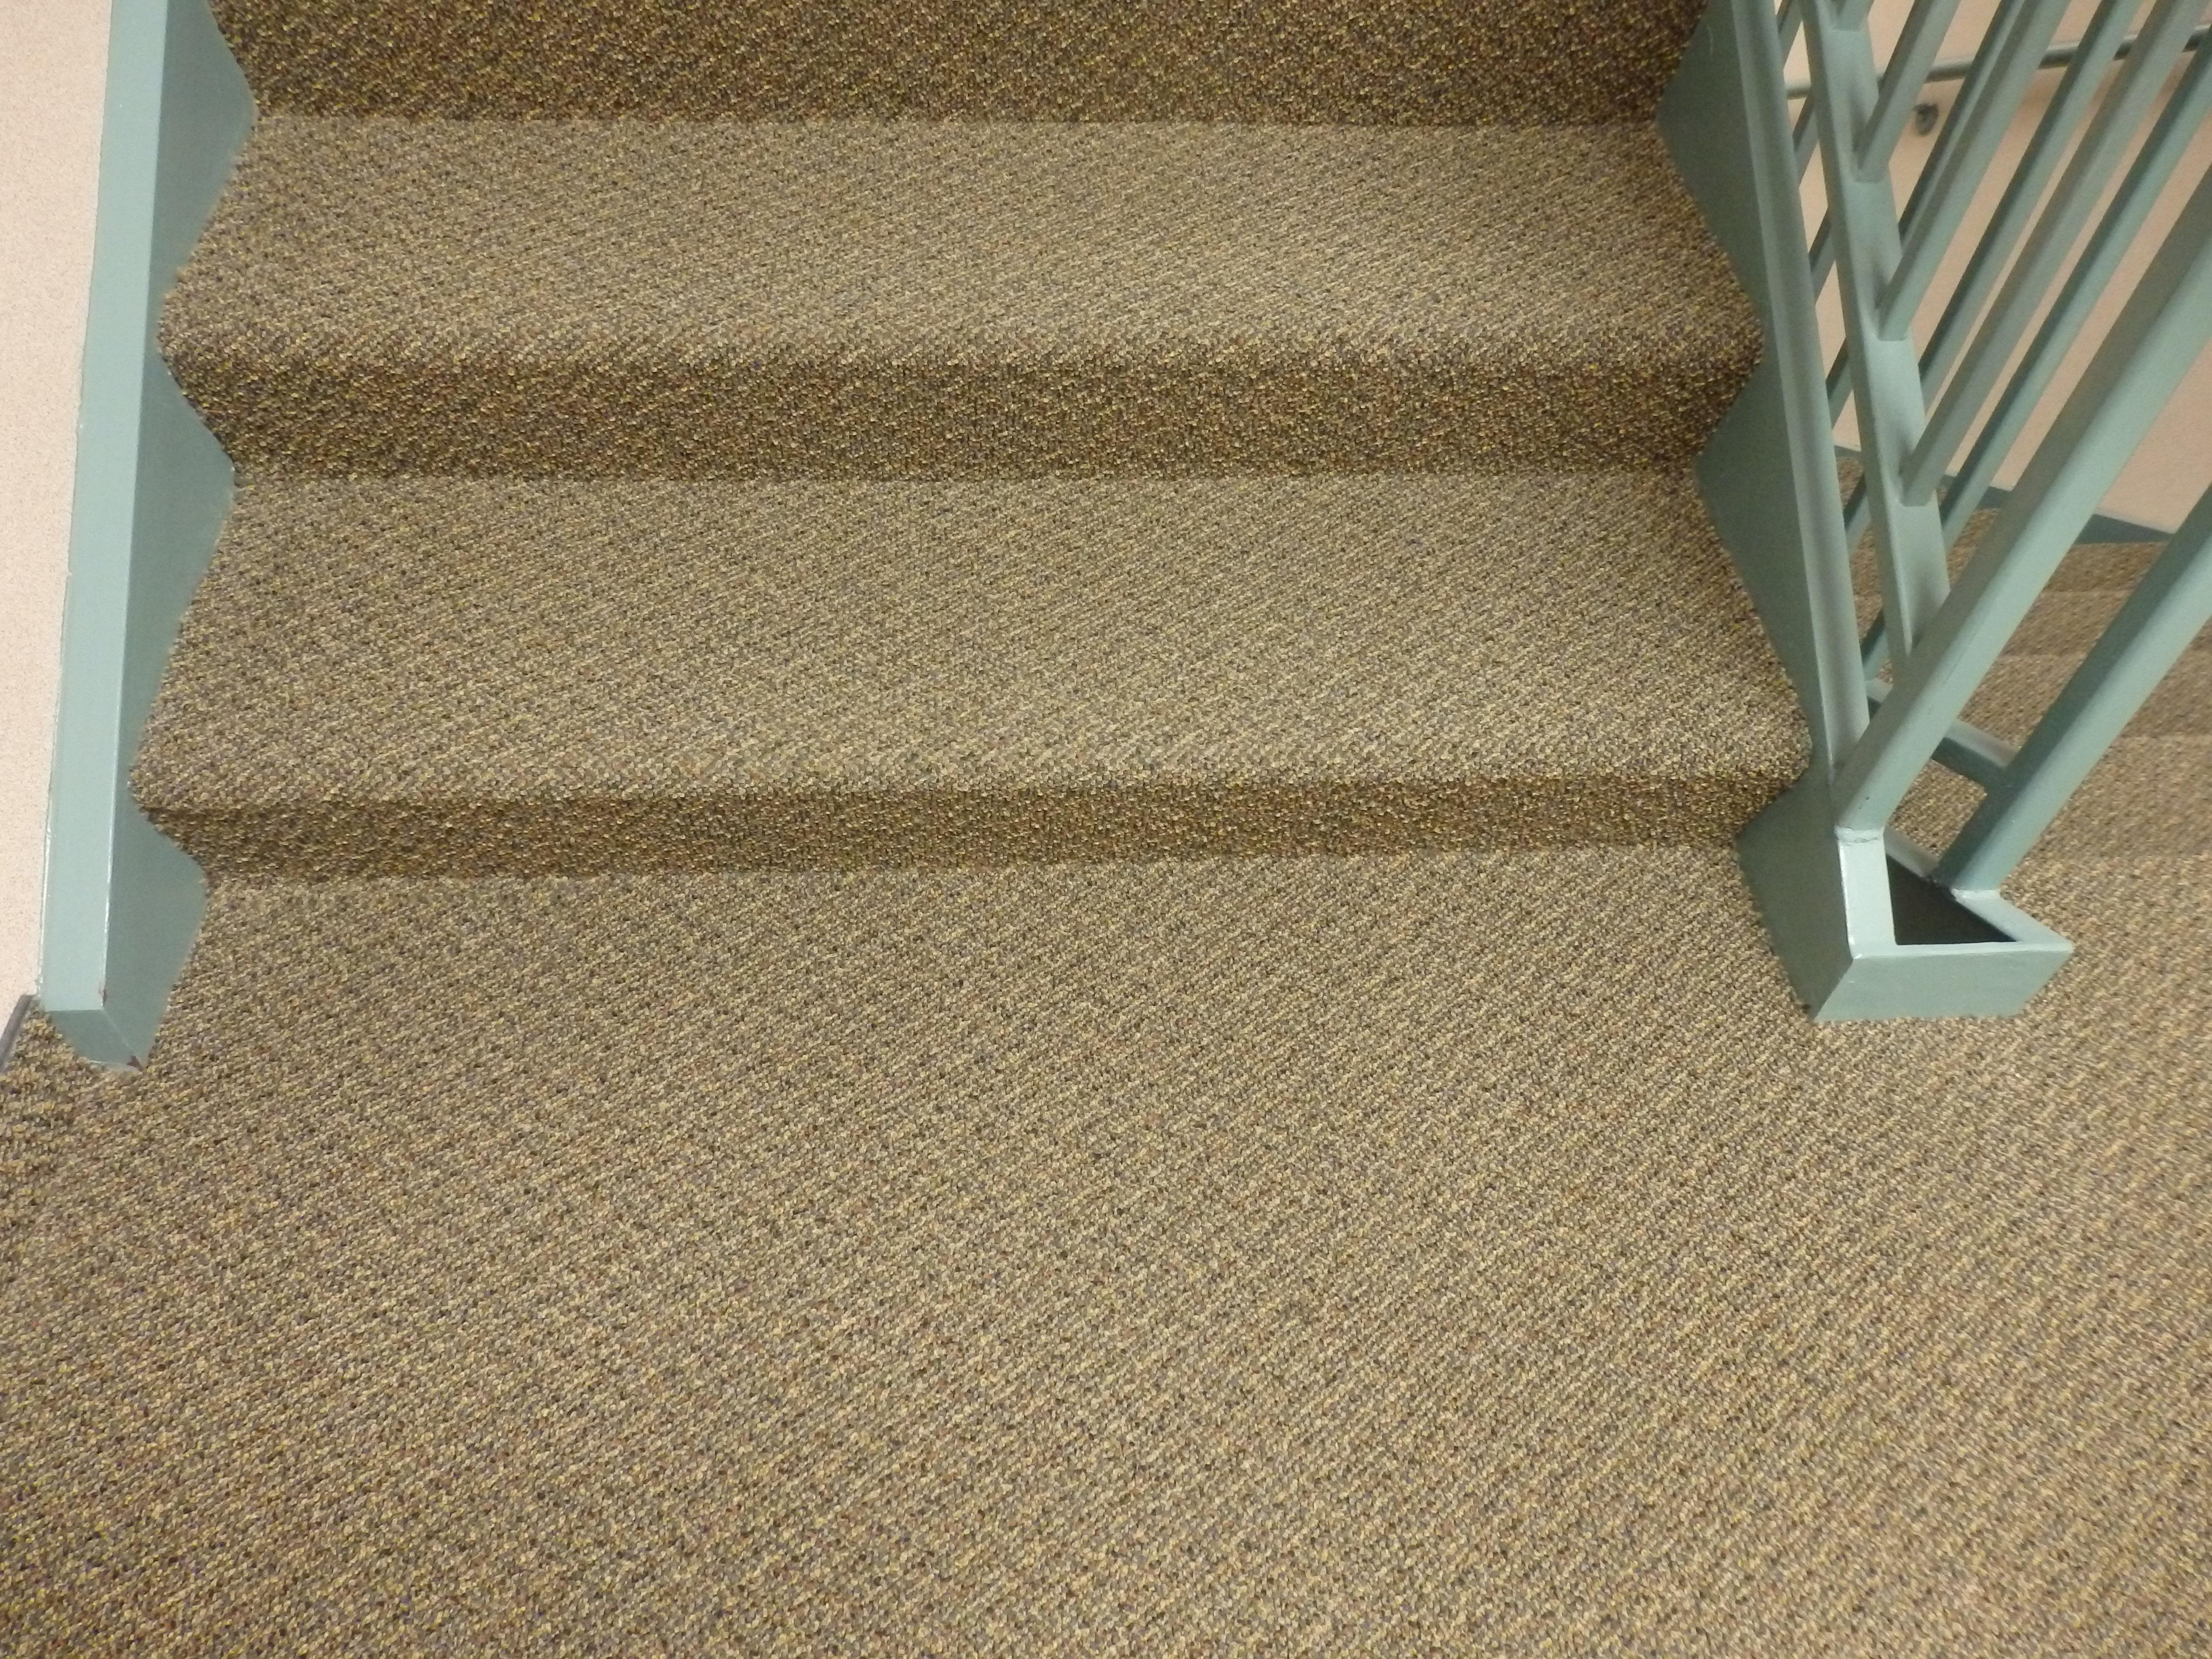stairs_up: (158, 26, 1853, 979)
